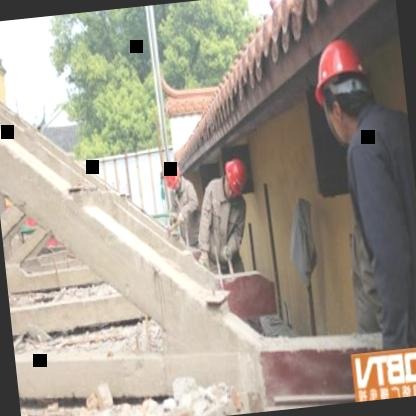helmet: (309, 34, 378, 143), (220, 154, 251, 200), (161, 159, 184, 194)
